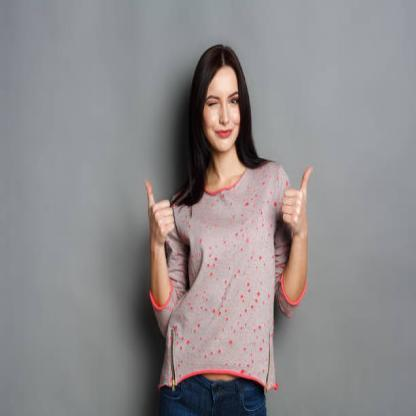thumb_up: (278, 164, 318, 232), (142, 176, 177, 245)
